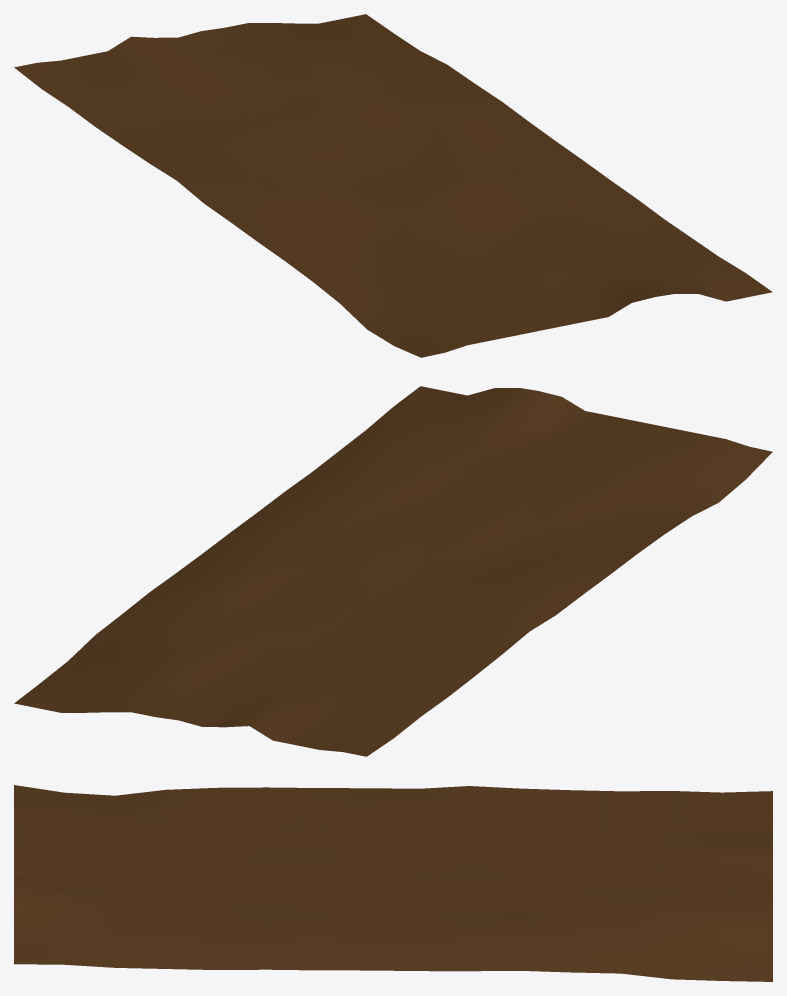
File: midden01.fbx
The picture shows the model from 3 angles, top to bottom: view 1: azimuth 30°, elevation 25°; view 2: azimuth 150°, elevation 25°; view 3: azimuth 270°, elevation 25°; orthographic projection. The views are drawn at different scales.
Parts seen in each view (by area): view 1: pPlane2; view 2: pPlane2; view 3: pPlane2.
Part boxes in pixels (box(x1,y1,x2,y2)): pPlane2: box(14, 14, 772, 357); pPlane2: box(14, 386, 772, 756); pPlane2: box(14, 785, 772, 981).
Size of the model in its own units: 9.02 by 1.06 by 18.
